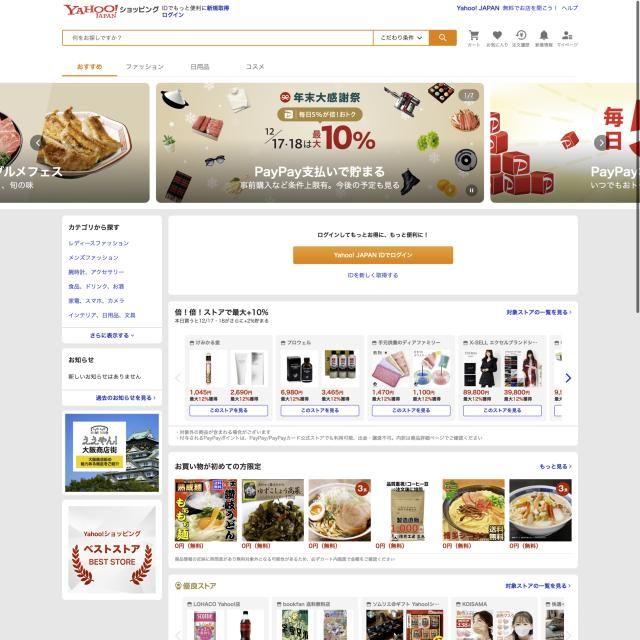input: (61, 28, 458, 49)
logo: (59, 1, 119, 21)
